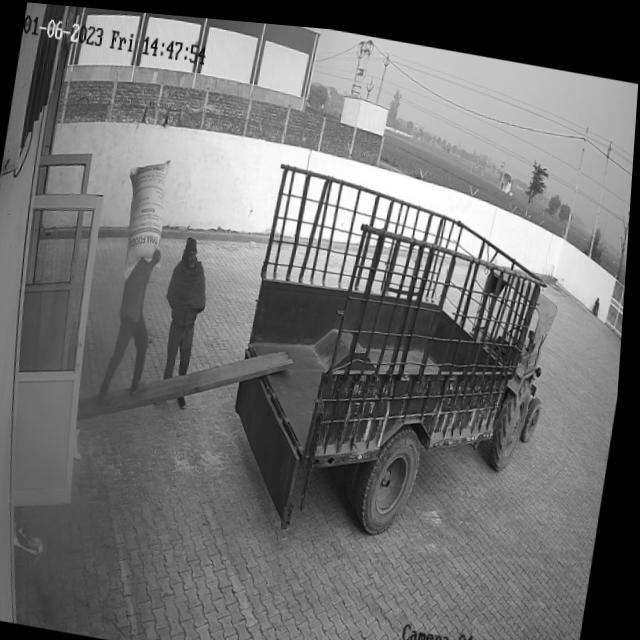sack: (116, 149, 178, 282)
